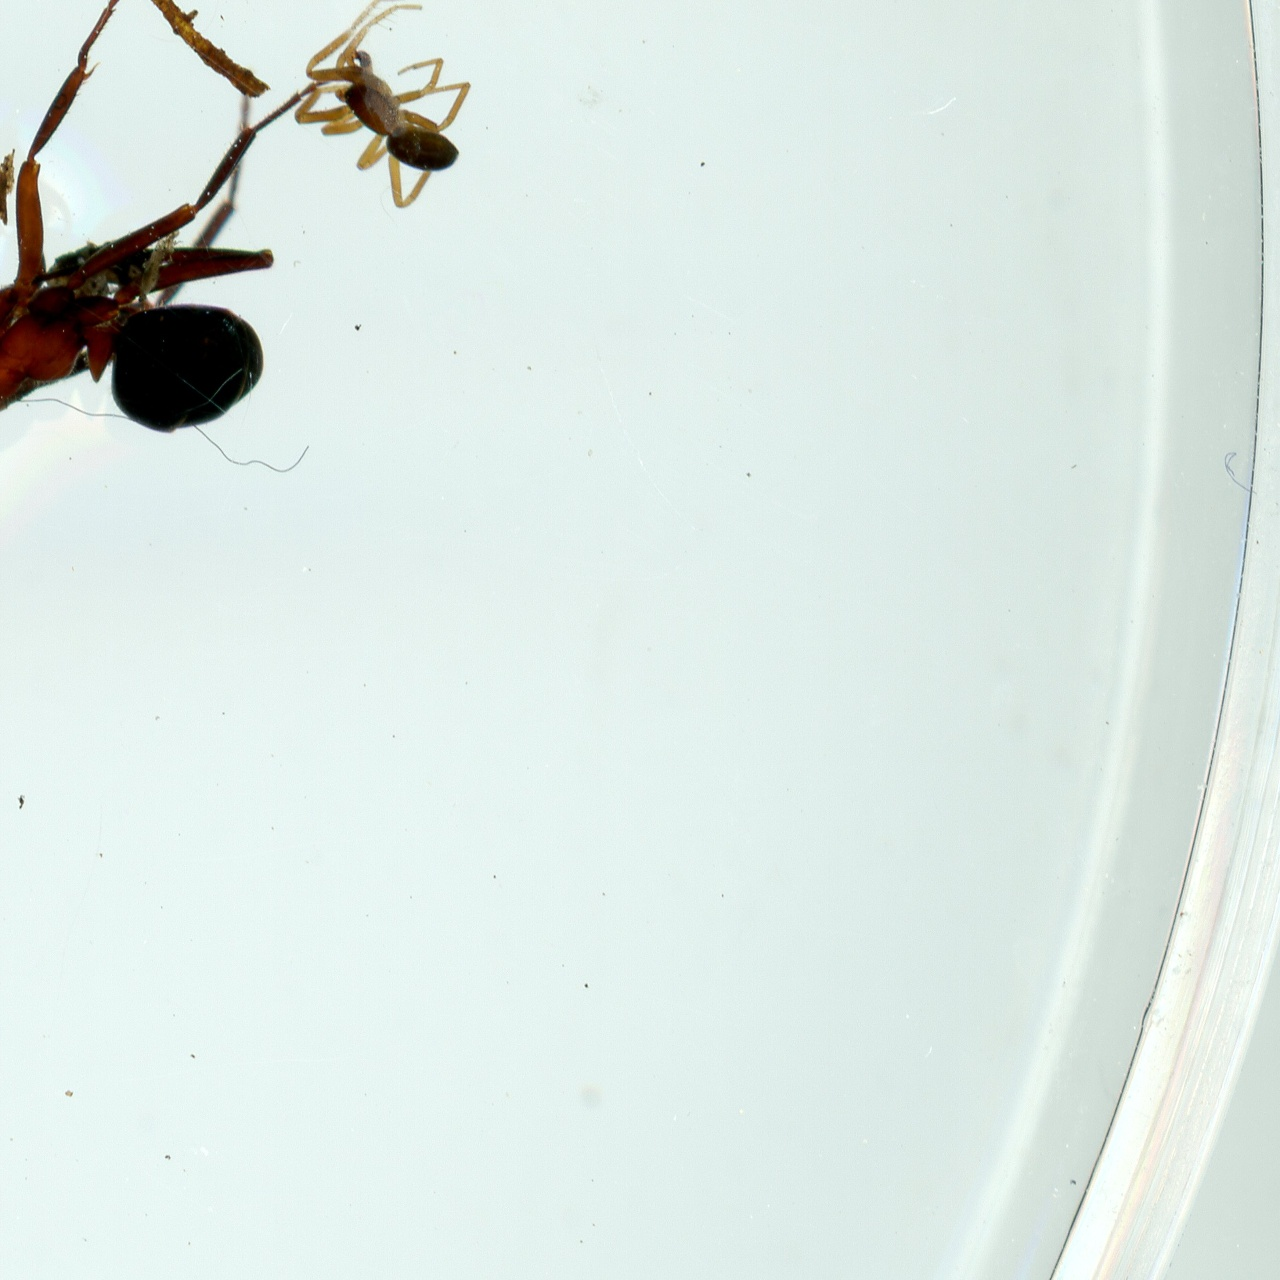arthropod: (0, 0, 301, 493), (285, 0, 485, 212)
